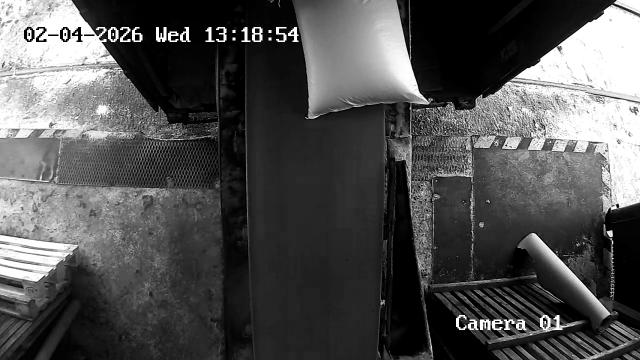bag: (294, 0, 433, 120)
